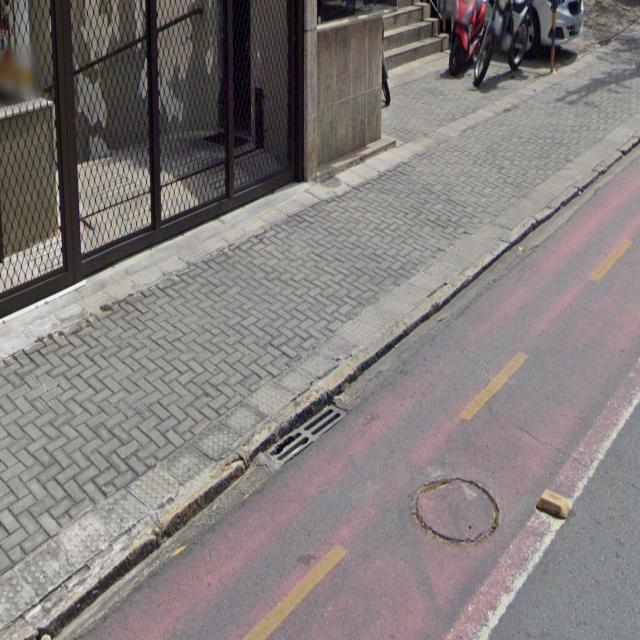Bueiro: (404, 470, 514, 552)
